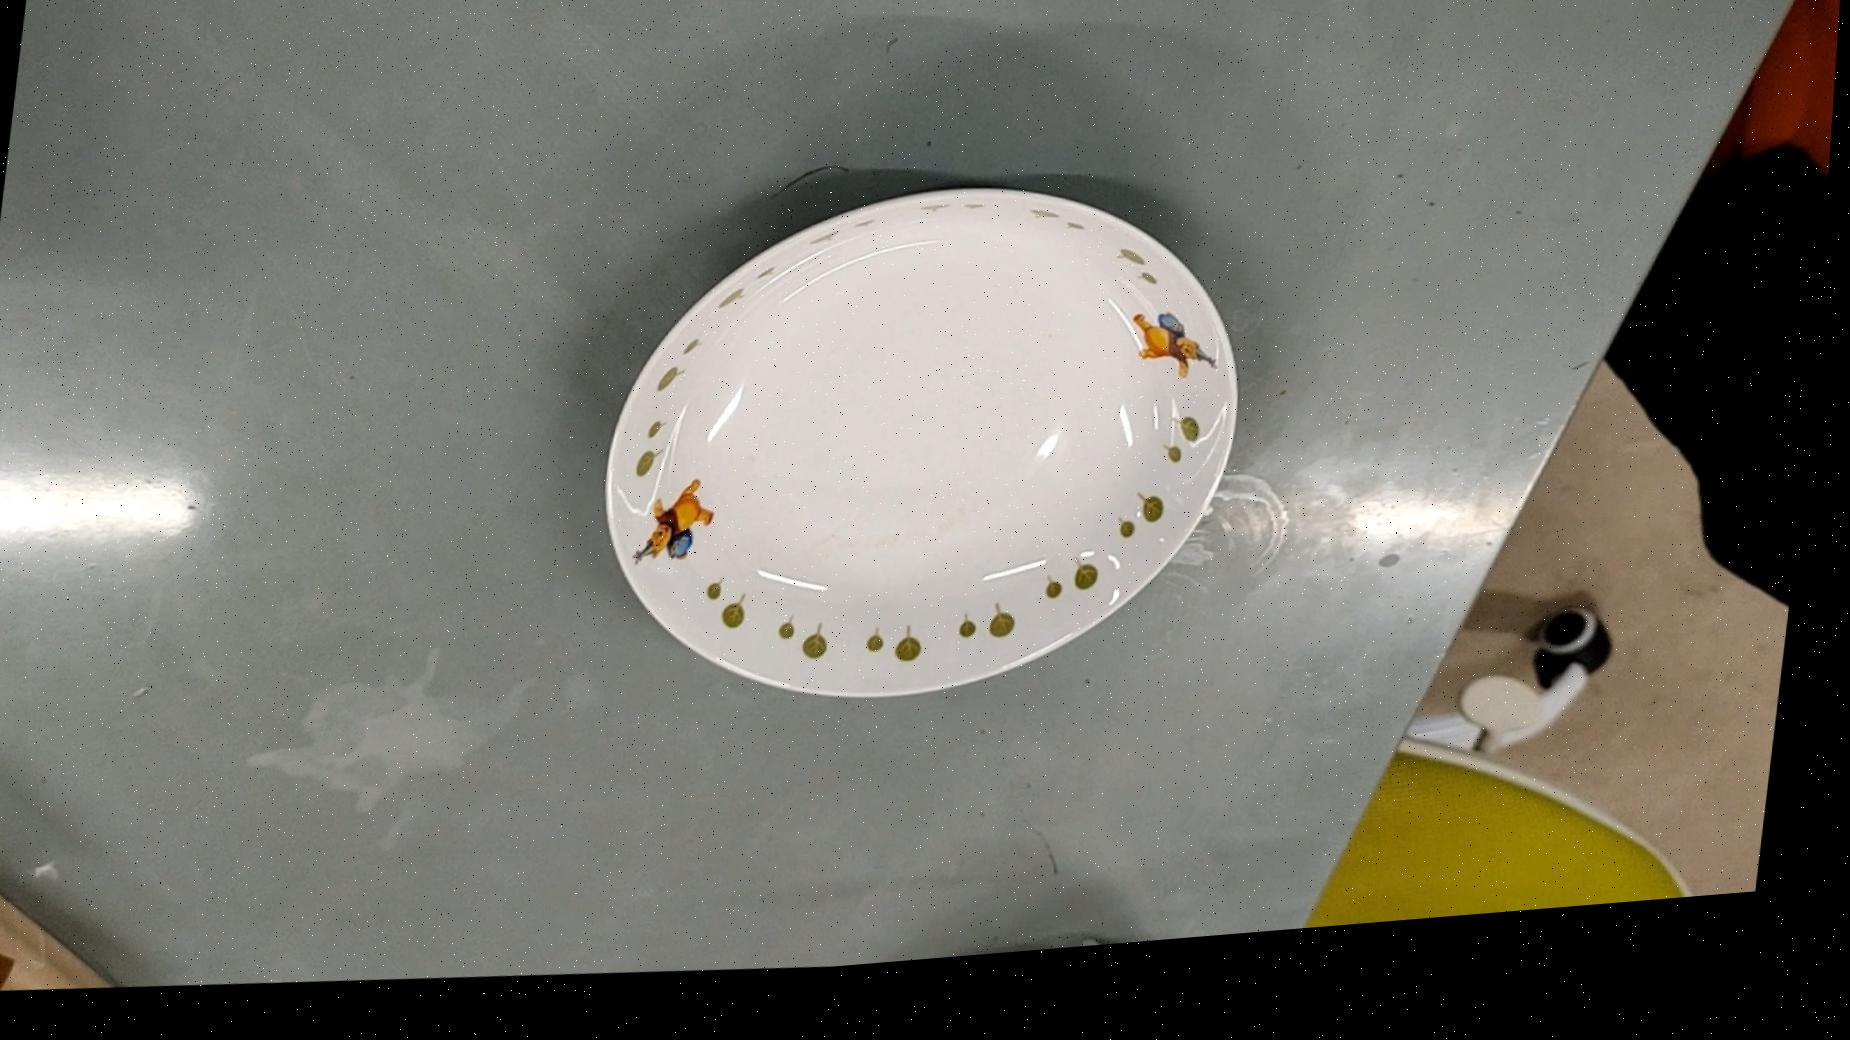plate: (586, 169, 1264, 750)
